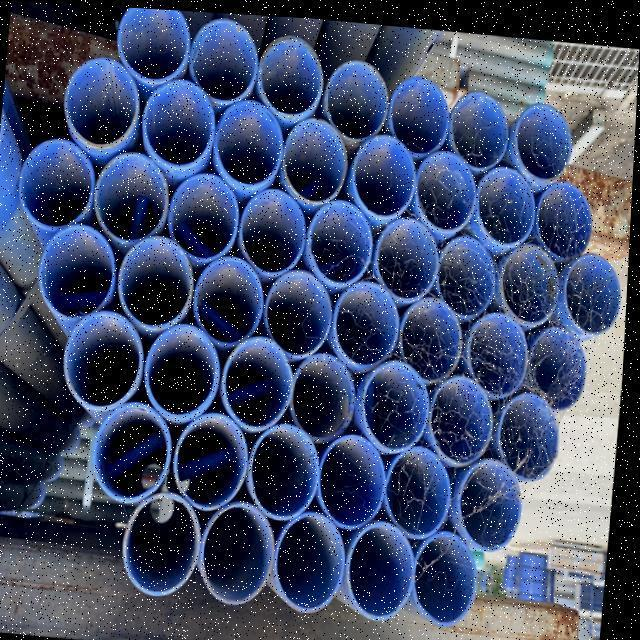pipe: (126, 493, 208, 596), (202, 501, 282, 603), (65, 309, 148, 407), (99, 401, 176, 504), (277, 511, 356, 611), (38, 222, 119, 316), (350, 513, 423, 615), (415, 525, 493, 620), (169, 172, 254, 258), (121, 235, 199, 328), (254, 414, 326, 513), (148, 323, 224, 415), (22, 138, 98, 230), (180, 409, 252, 505), (320, 426, 391, 523), (95, 152, 170, 242), (391, 286, 462, 379), (144, 76, 217, 166), (363, 355, 435, 446), (197, 249, 271, 337), (227, 333, 297, 426), (65, 59, 139, 146), (462, 450, 528, 545), (434, 368, 500, 460), (335, 277, 407, 361), (309, 196, 379, 282), (292, 351, 358, 441), (242, 184, 308, 274), (268, 263, 335, 351), (389, 442, 456, 529), (188, 17, 259, 99), (217, 99, 285, 184), (502, 385, 564, 476), (356, 131, 420, 218), (287, 112, 351, 198), (258, 33, 324, 114), (504, 234, 567, 318), (324, 56, 390, 136), (416, 140, 478, 225), (116, 6, 190, 77), (381, 213, 445, 295), (472, 305, 533, 391), (531, 317, 591, 401), (569, 244, 626, 331), (439, 228, 499, 310), (479, 160, 538, 243), (392, 70, 451, 153), (450, 82, 508, 164), (539, 172, 595, 255), (516, 97, 574, 175)
